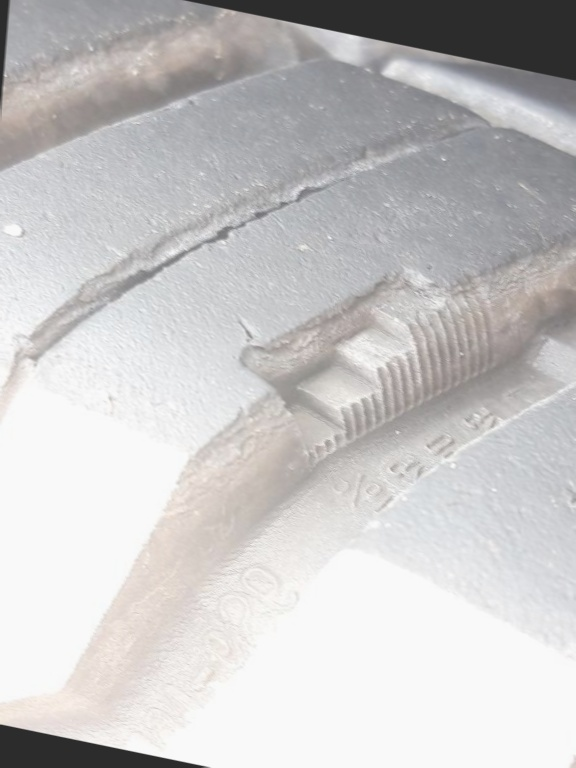temoin:90: (211, 206, 513, 524)
